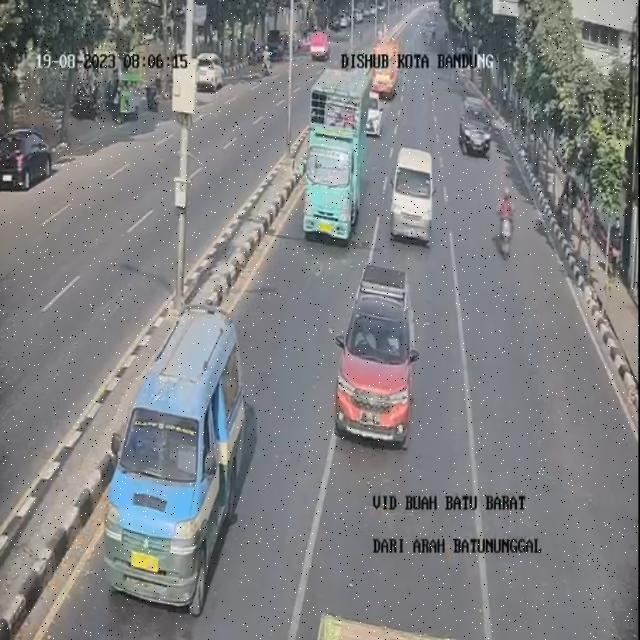cars: (94, 302, 249, 612), (331, 249, 419, 446), (391, 140, 439, 252), (456, 90, 492, 156), (362, 83, 385, 136)
motorcycle: (496, 182, 516, 260)
truck: (282, 65, 377, 245), (376, 34, 399, 95)
